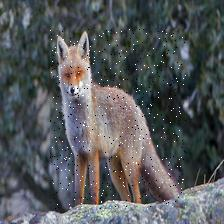fox: (51, 29, 187, 209)
